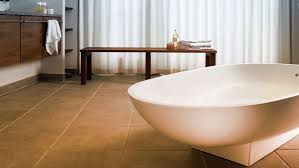bathub: (124, 60, 299, 168)
